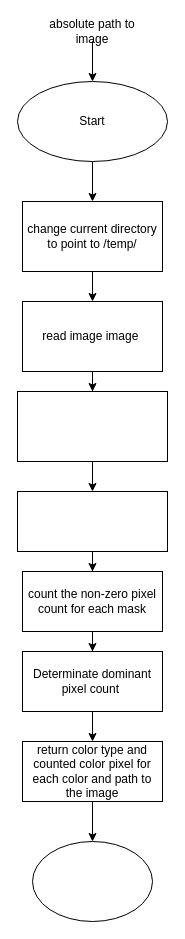
The diagram is 185 pixels wide and 939 high, and some of its shapes have lost their labels. Each missing label, with the centre of its shape:
"define color thresholds" belongs at point 92,426.
"End" belongs at point 92,881.
"generate masks" belongs at point 92,521.
